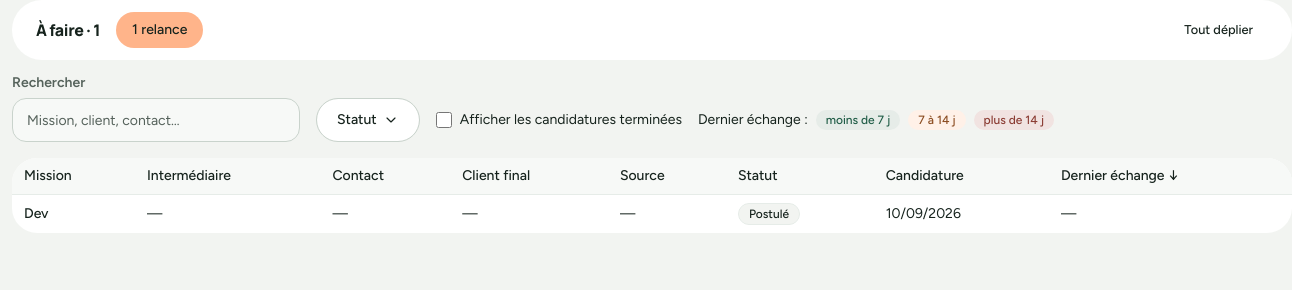
it: JobApplicationsTable › reveals the to-do details once expanded
Click the button "Tout déplier".
click(1219, 30)  # box x1=1169 y1=12 x2=1268 y2=48
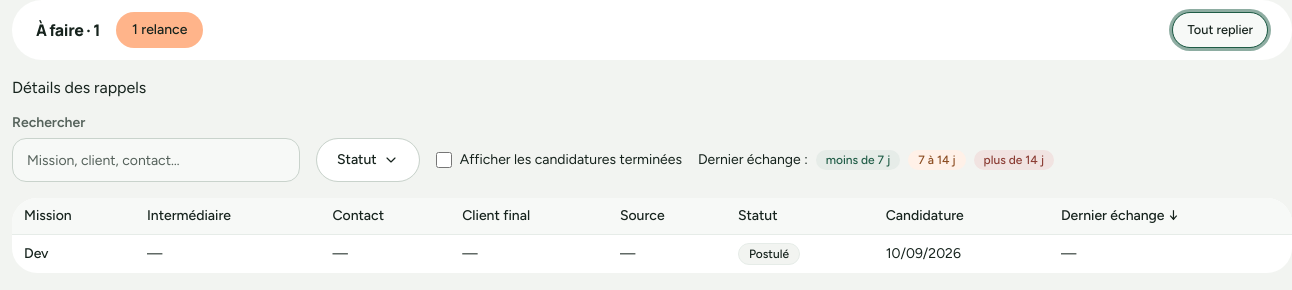
Expected: the button "Tout replier" is expanded, x1=1172 y1=12 x2=1268 y2=48
Expected: the text "Détails des rappels" is shown, x1=12 y1=78 x2=146 y2=97
